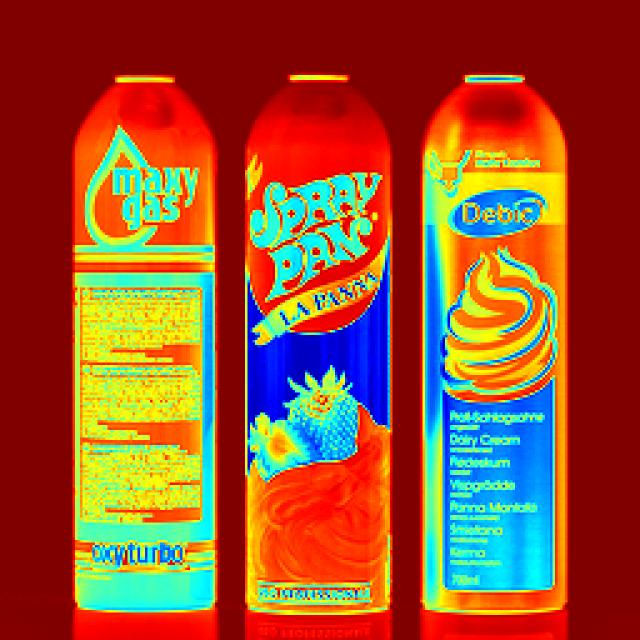Aerosol Cans: (48, 48, 234, 637)
